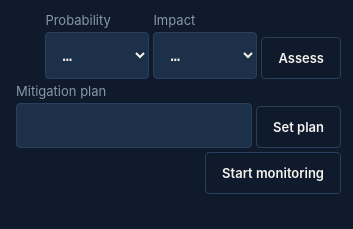
it: RiskWorkflowActions — assess › falls back to a generic error message when assess fails without one
Select "High" in the dropdown labelled "Probability" at (97, 56), box [45,32,149,79]
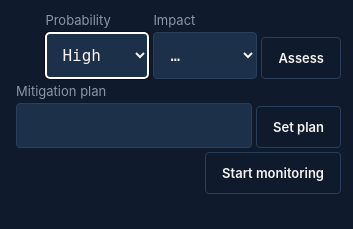
Select "Medium" in the dropdown labelled "Impact" at (205, 56), box [153,32,257,79]
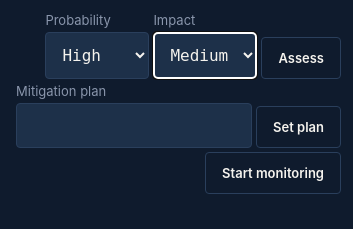
Click the button "Assess" at (301, 58), box [261,37,341,79]
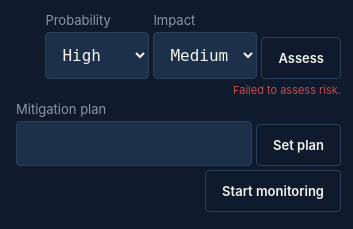
Result: the text "Failed to assess risk." is shown at [233,83,341,97]
